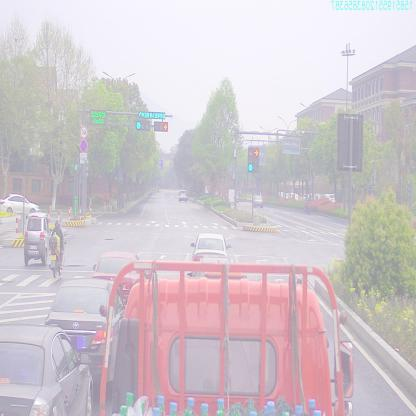traffic-light: (138, 112, 166, 119), (153, 120, 169, 132), (137, 121, 151, 130)
